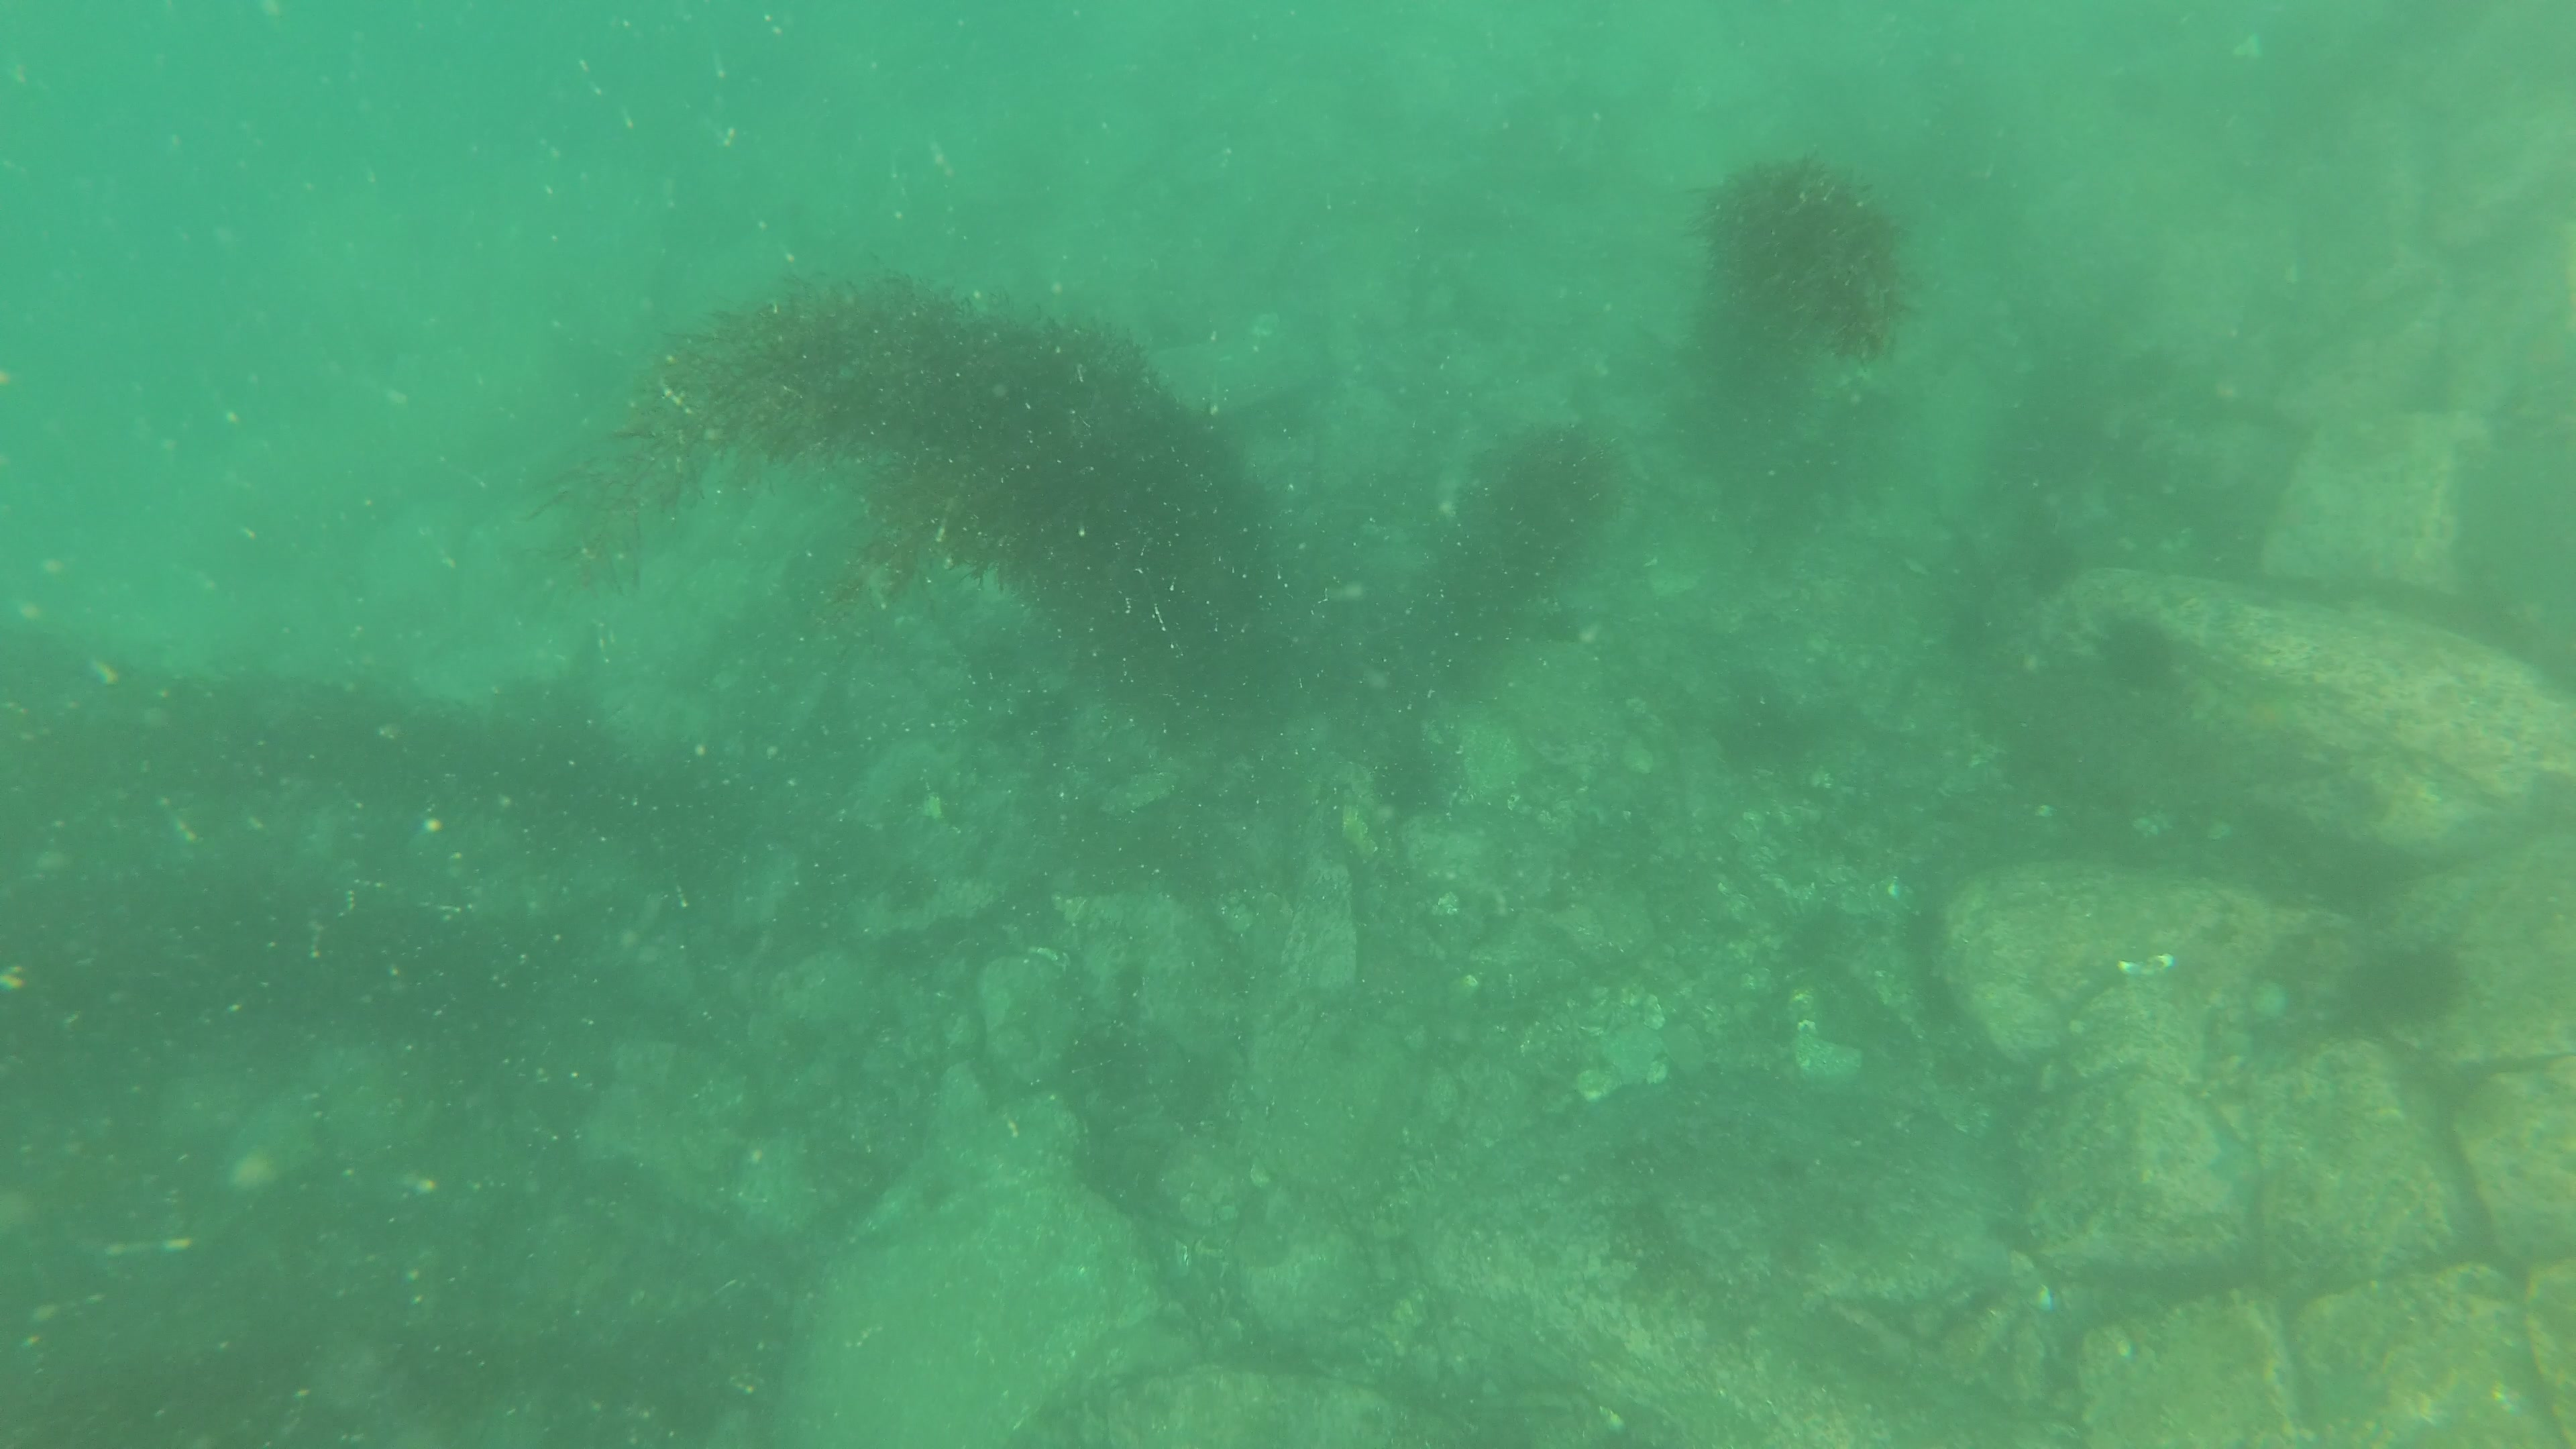echinus: (2350, 947, 2456, 1028), (2088, 617, 2174, 695)
